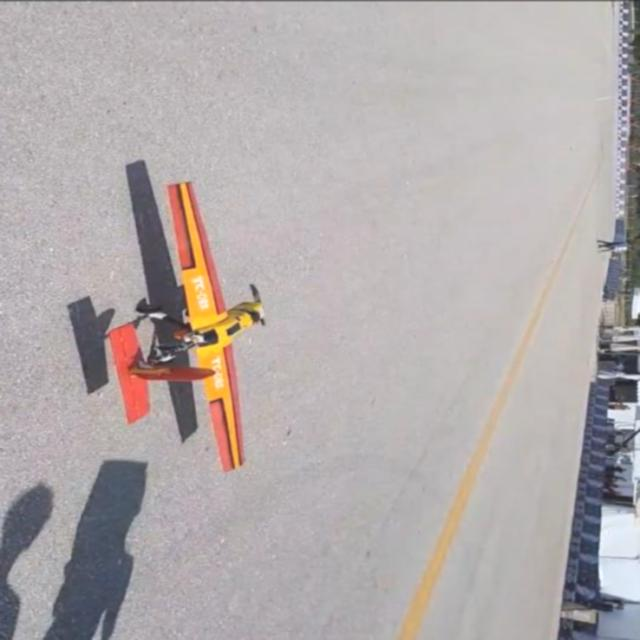plane: (103, 178, 270, 471)
